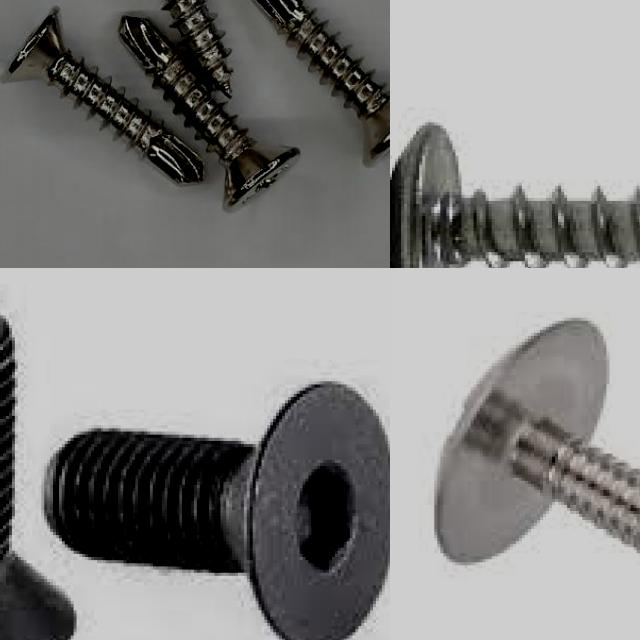Screw: (44, 381, 390, 640), (434, 321, 640, 565), (390, 122, 640, 268), (2, 7, 204, 182), (120, 16, 300, 208), (256, 0, 390, 166), (164, 0, 232, 97)
